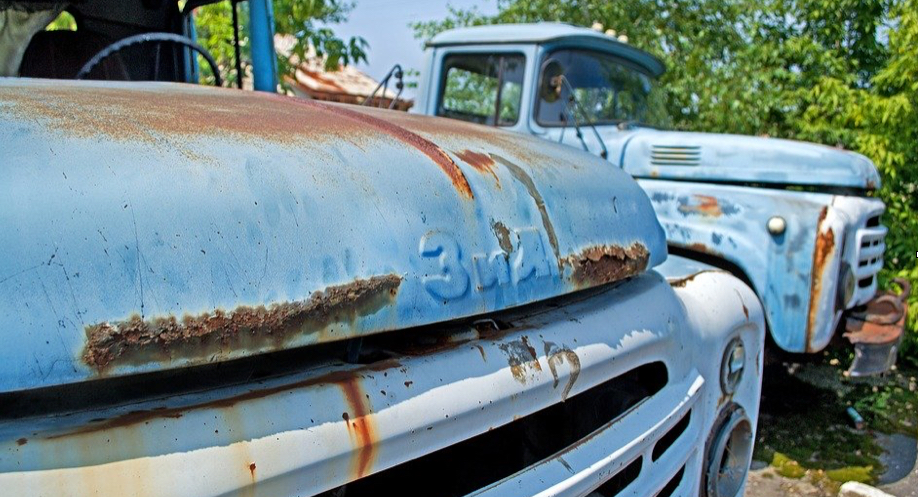rust: (72, 313, 392, 354), (326, 374, 387, 480), (804, 206, 838, 357), (563, 244, 656, 286)
